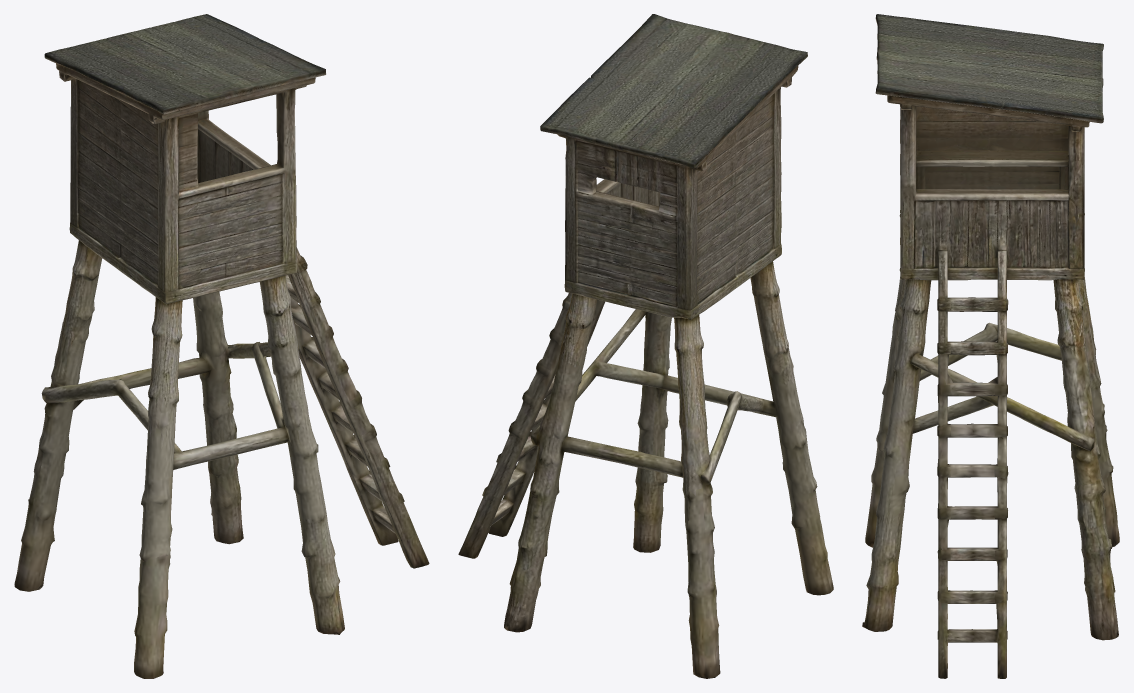
Rendered from prop_hunting_stand.glb.
3 renders of one model, left to right at view 1: azimuth 30°, elevation 25°; view 2: azimuth 150°, elevation 25°; view 3: azimuth 270°, elevation 25°, orthographic. The views are drawn at different scales.
Visible parts, largest first — view 1: tripo_node_ddaf2a66-5783-4c9d-897f-07338e513021; view 2: tripo_node_ddaf2a66-5783-4c9d-897f-07338e513021; view 3: tripo_node_ddaf2a66-5783-4c9d-897f-07338e513021.
Part boxes in pixels (x1=…): tripo_node_ddaf2a66-5783-4c9d-897f-07338e513021: x1=14, y1=14, x2=429, y2=678; tripo_node_ddaf2a66-5783-4c9d-897f-07338e513021: x1=458, y1=14, x2=833, y2=678; tripo_node_ddaf2a66-5783-4c9d-897f-07338e513021: x1=862, y1=14, x2=1119, y2=678.
Bounding box in the file's own units: 0.5948 × 0.9789 × 0.4261.
Materials: 1 (1 with a texture image).
